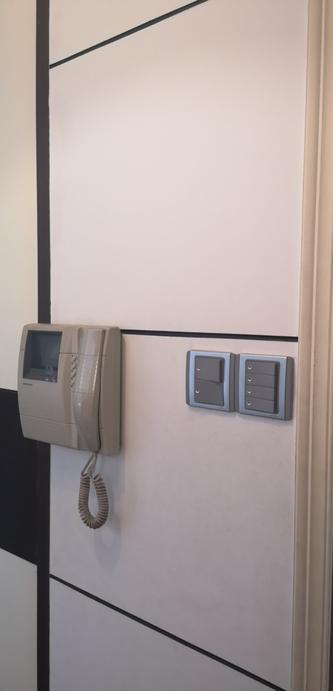switch: (189, 355, 226, 379), (191, 381, 227, 404), (242, 396, 279, 413), (244, 386, 280, 401), (245, 359, 280, 373), (243, 372, 278, 385)
